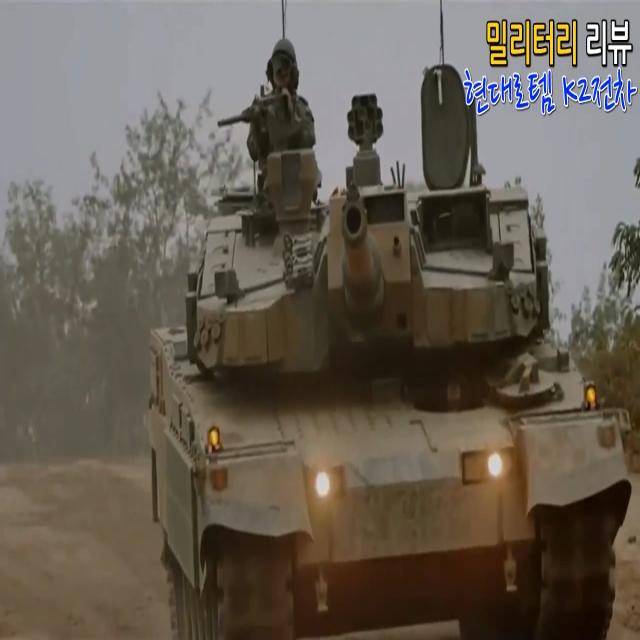korea tank: (148, 35, 632, 640)
